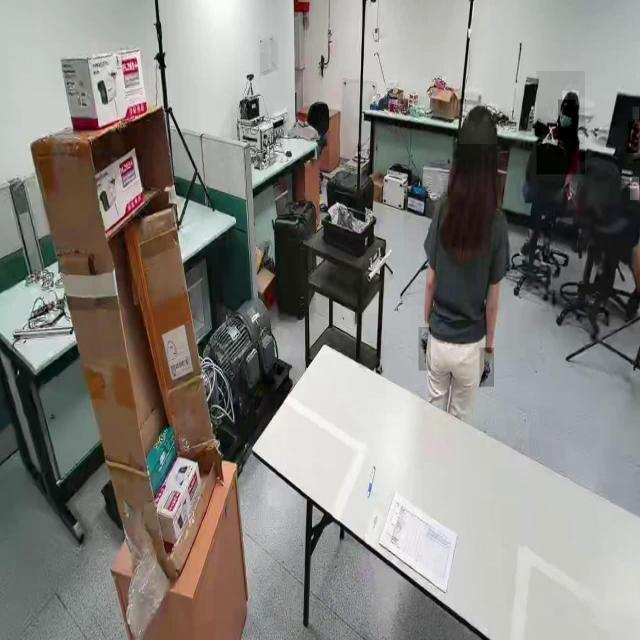gloves: (418, 327, 432, 372), (480, 348, 494, 388)
